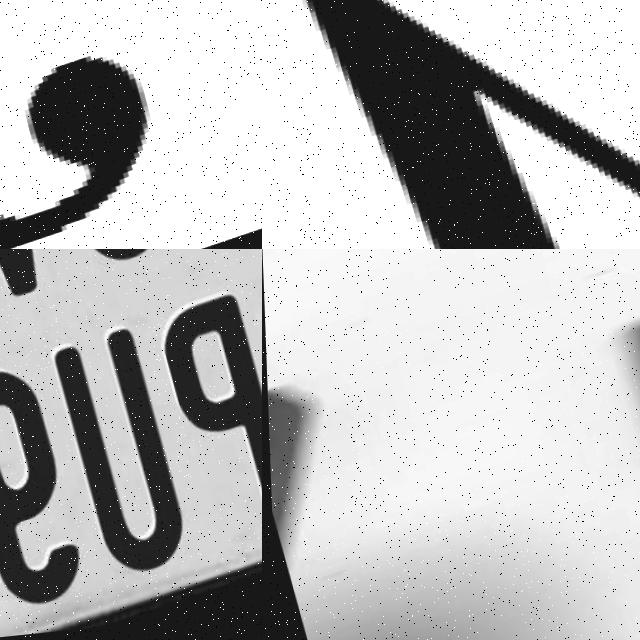3: (0, 0, 181, 249)
9: (0, 358, 86, 632)
P: (153, 296, 262, 562)
U: (44, 326, 191, 594)
